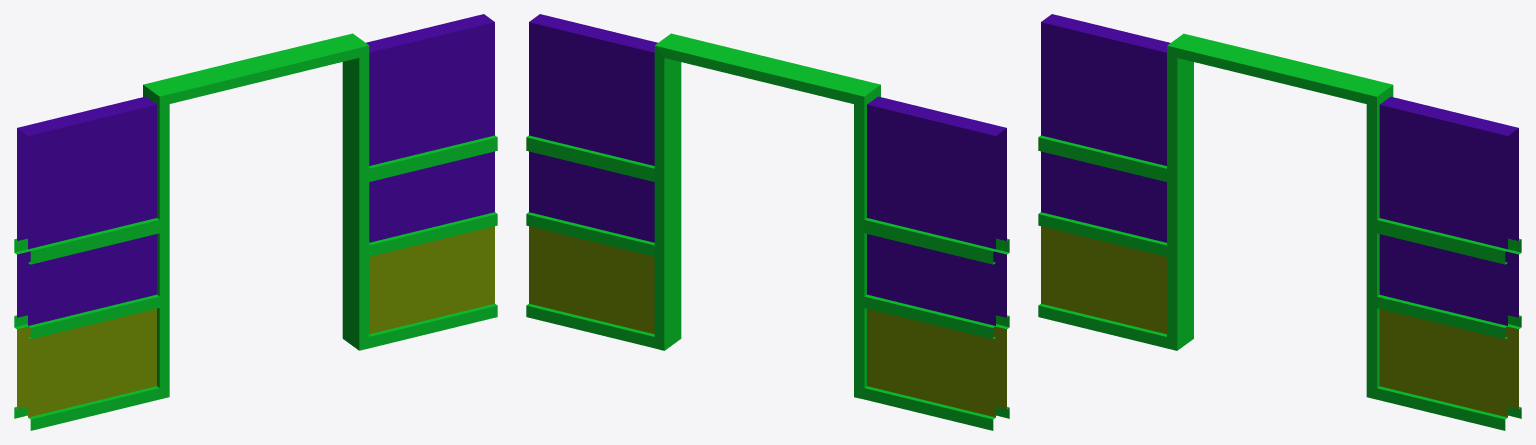
Rendered from ModelTavernLokiArchitectureArch.FBX.
3 renders of one model, left to right at view 1: azimuth 30°, elevation 25°; view 2: azimuth 150°, elevation 25°; view 3: azimuth 330°, elevation 25°, orthographic.
Visible parts, largest first — view 1: Mur + Encadrure; view 2: Mur + Encadrure; view 3: Mur + Encadrure.
Boxes of the visible parts, x1,y1,x2,y2 form: Mur + Encadrure: [14, 14, 497, 430]; Mur + Encadrure: [526, 14, 1009, 430]; Mur + Encadrure: [1038, 14, 1521, 430].
Size of the model in its own units: 501 by 310 by 31.13.
